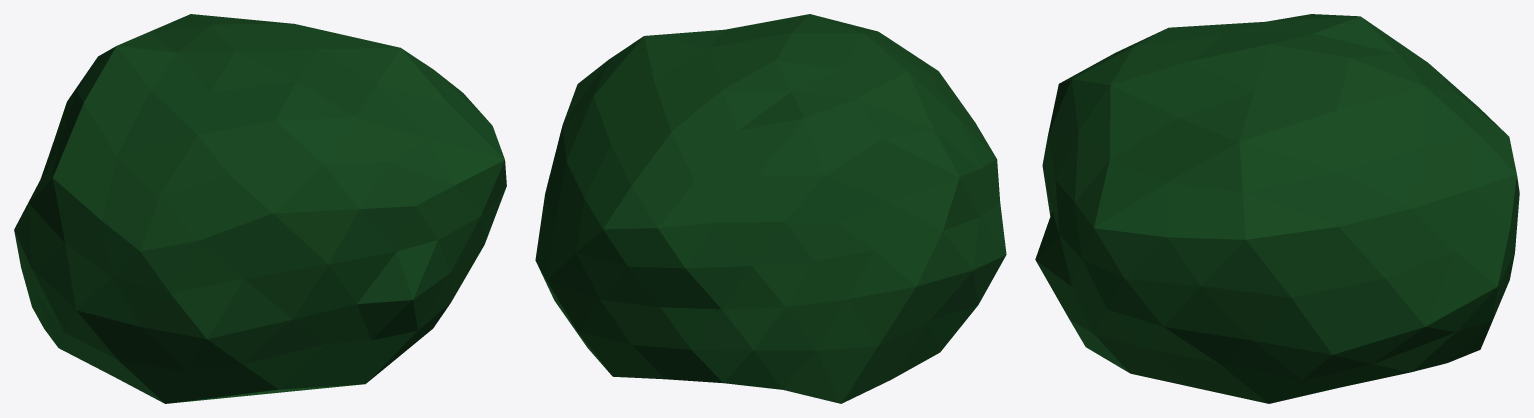
The model's file is bush_2x.fbx.
3 views of the same model, side by side, from view 1: azimuth 30°, elevation 25°; view 2: azimuth 150°, elevation 25°; view 3: azimuth 270°, elevation 25° (orthographic). The views are drawn at different scales.
Parts seen in each view (by area): view 1: Icosphere; view 2: Icosphere; view 3: Icosphere.
Part boxes in pixels (<box>): Icosphere: <box>14,14,506,403</box>; Icosphere: <box>535,14,1006,403</box>; Icosphere: <box>1035,14,1519,403</box>.
Size of the model in its own units: 1028 by 647 by 1003.
